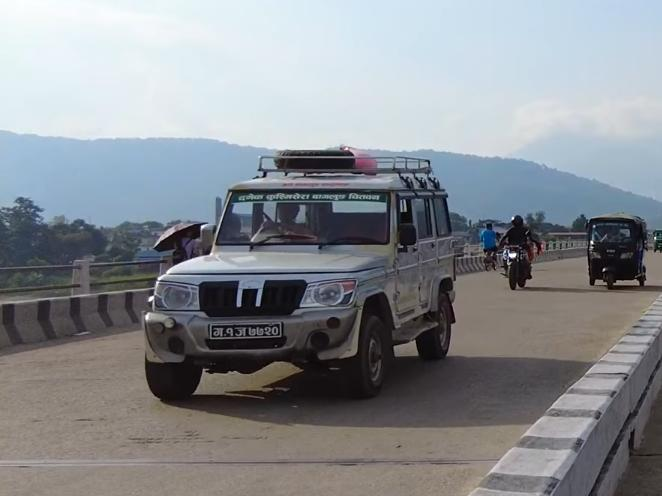SUV: (141, 137, 471, 409)
auto_rickshaw: (584, 211, 650, 294)
bike: (504, 237, 535, 294)
